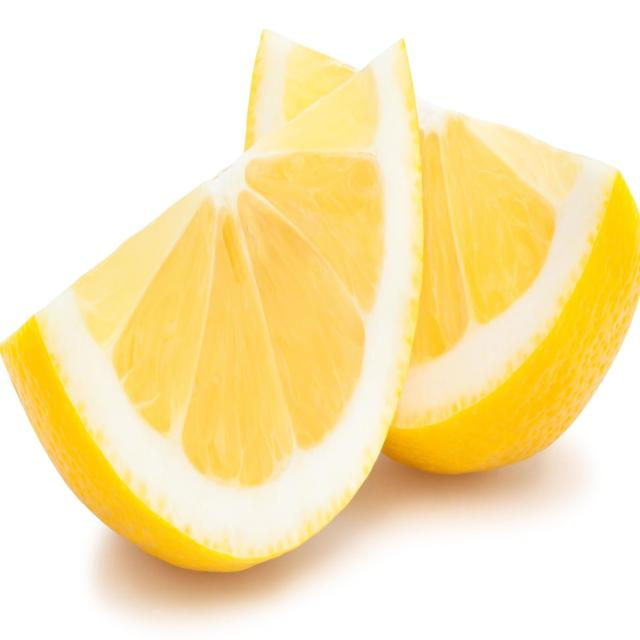lemon: (0, 35, 441, 579), (233, 19, 640, 499)
